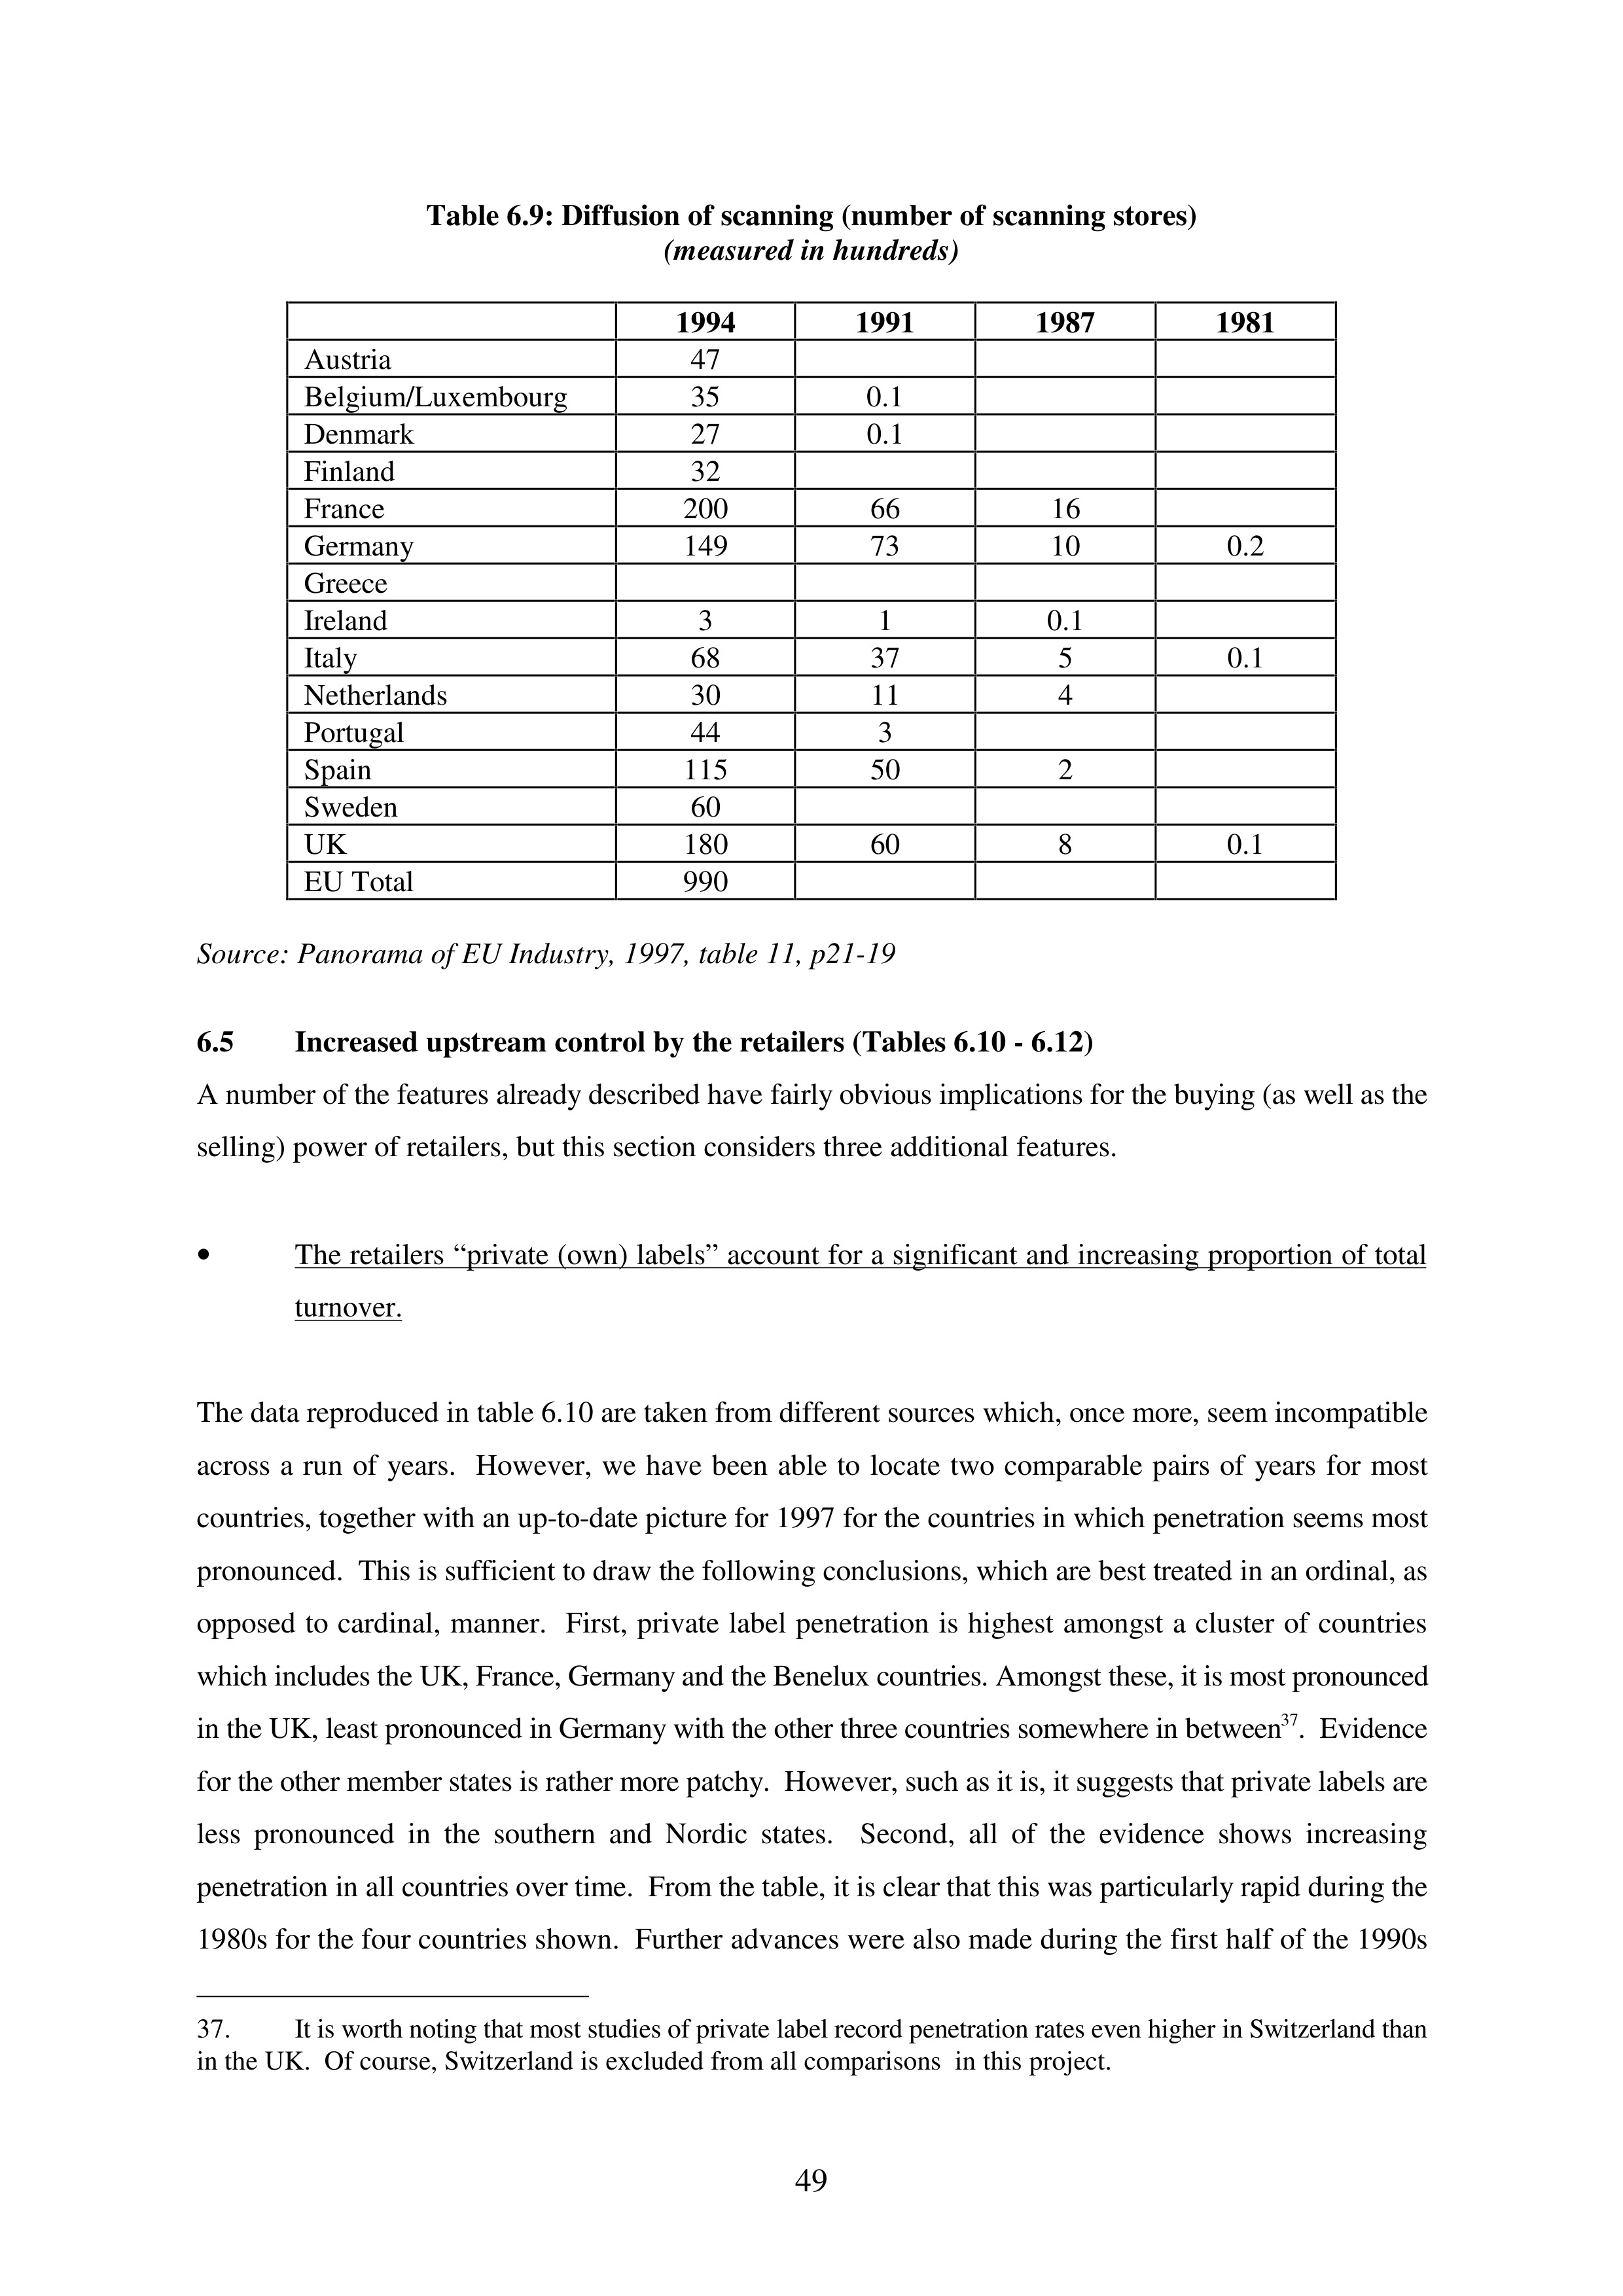table: (304, 300, 1275, 899)
